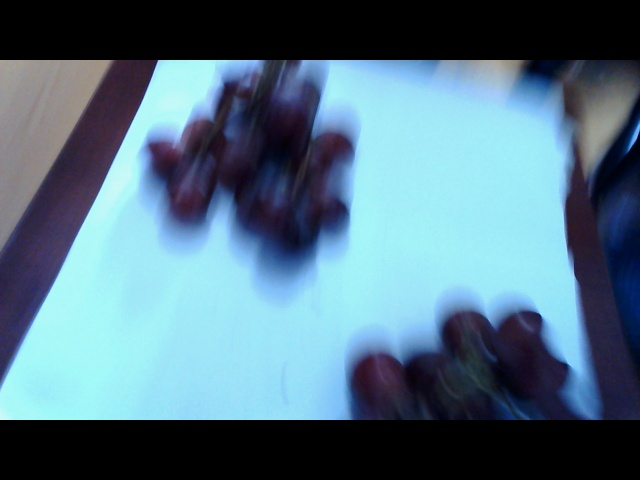grape: (310, 282, 586, 425), (153, 73, 367, 247)
